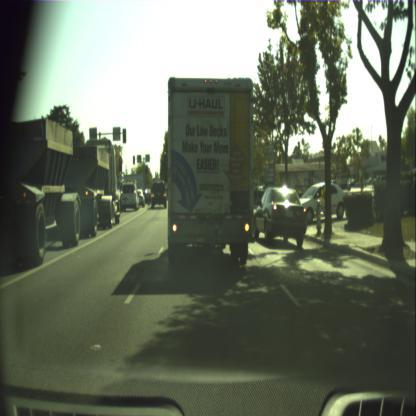Red: (163, 150, 166, 158)
off: (122, 127, 126, 142), (144, 164, 148, 174), (132, 156, 135, 163)
